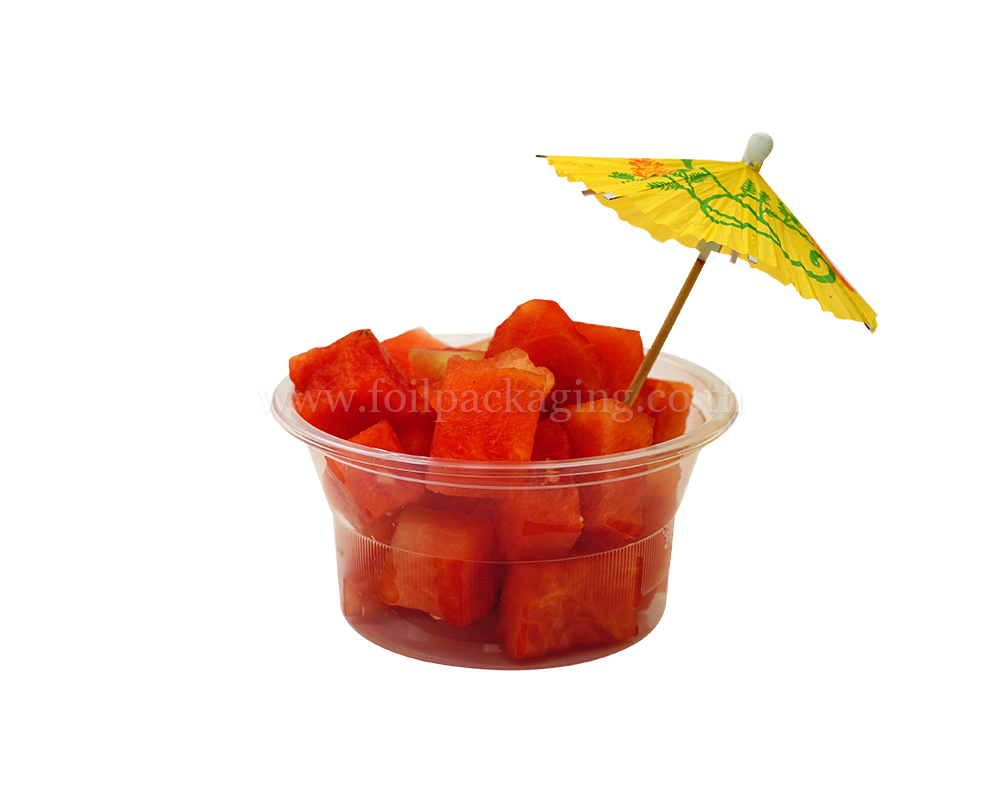plastic_glass: (263, 325, 751, 679)
